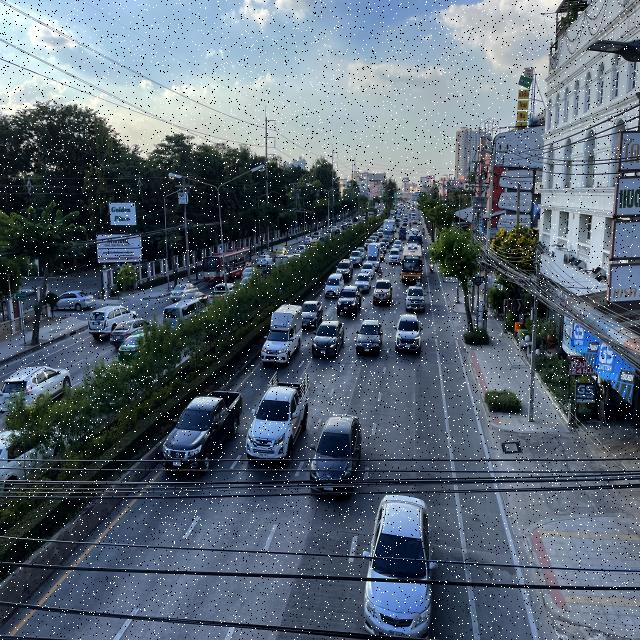bike: (376, 268, 383, 279)
bus: (401, 243, 424, 285), (408, 228, 422, 244)
car: (360, 493, 436, 640), (160, 388, 243, 477), (308, 414, 364, 500), (311, 320, 345, 357), (393, 312, 422, 354), (356, 319, 384, 356), (298, 300, 324, 330), (336, 286, 362, 316), (405, 285, 427, 312), (324, 274, 344, 298), (336, 259, 353, 282), (354, 274, 372, 294), (387, 248, 401, 264), (349, 250, 363, 266)
truck: (245, 372, 310, 465), (261, 305, 303, 368), (372, 276, 392, 306), (364, 243, 380, 271), (382, 219, 395, 244), (398, 226, 406, 240)
